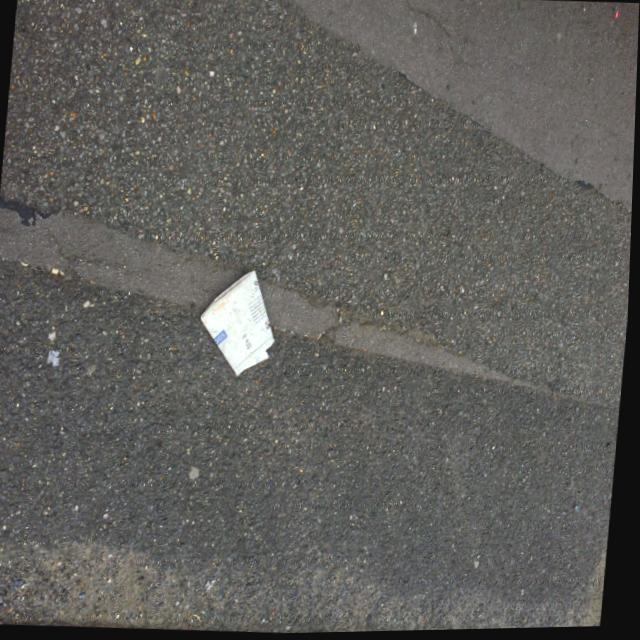Paper: (196, 264, 283, 381)
